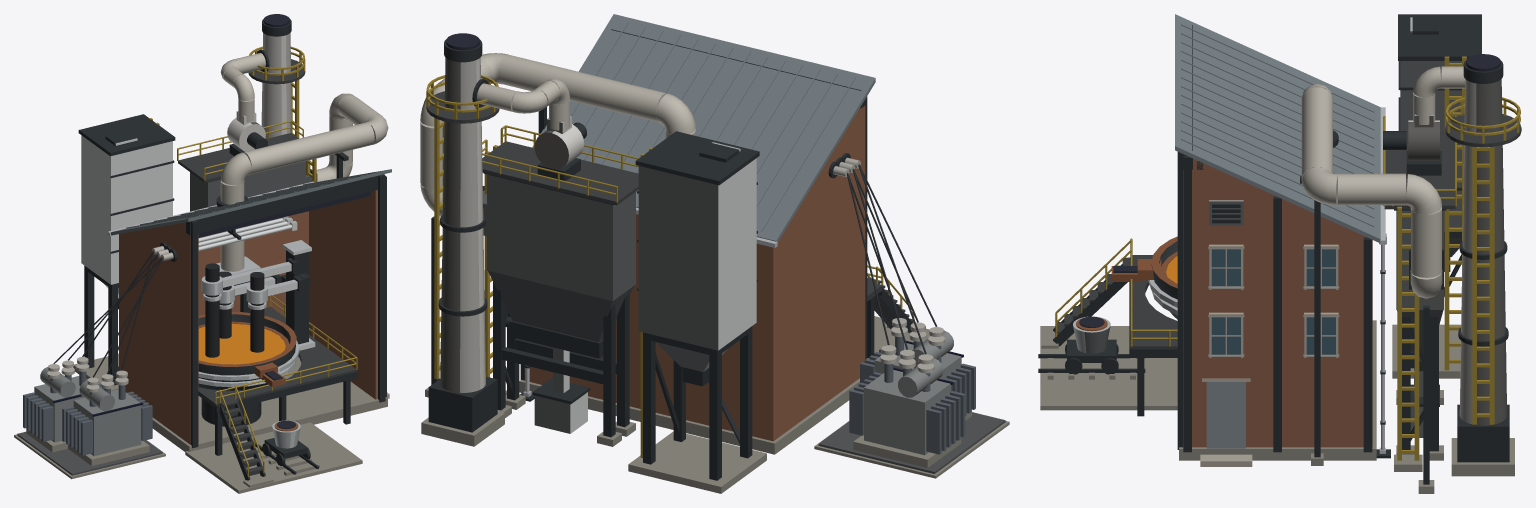
File: eaf_lvl2.glb
3 views of the same model, side by side, from view 1: azimuth 30°, elevation 25°; view 2: azimuth 150°, elevation 25°; view 3: azimuth 270°, elevation 25° (orthographic). The views are drawn at different scales.
Parts seen in each view (by area): view 1: eaf_v2; view 2: eaf_v2; view 3: eaf_v2, eaf_v2_Glass.
Boxes of the visible parts, box(x1,y1,x2,y2) form: eaf_v2: box(14, 14, 391, 493); eaf_v2: box(420, 14, 1009, 493); eaf_v2: box(1038, 14, 1521, 493); eaf_v2_Glass: box(1211, 249, 1335, 354).
Size of the model in its own units: 0.8571 by 0.6723 by 0.733.
